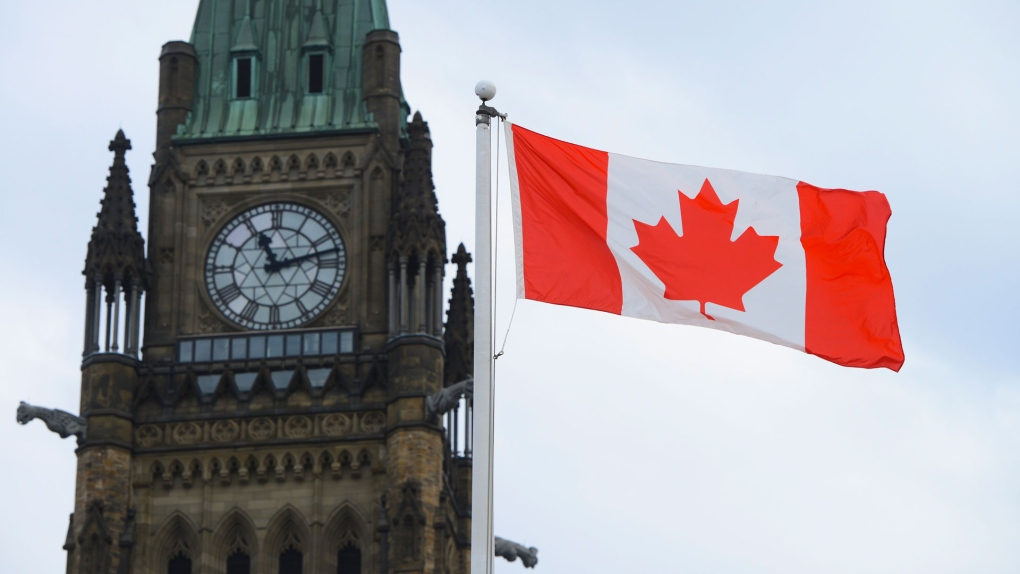Canada flag: (505, 122, 909, 371)
